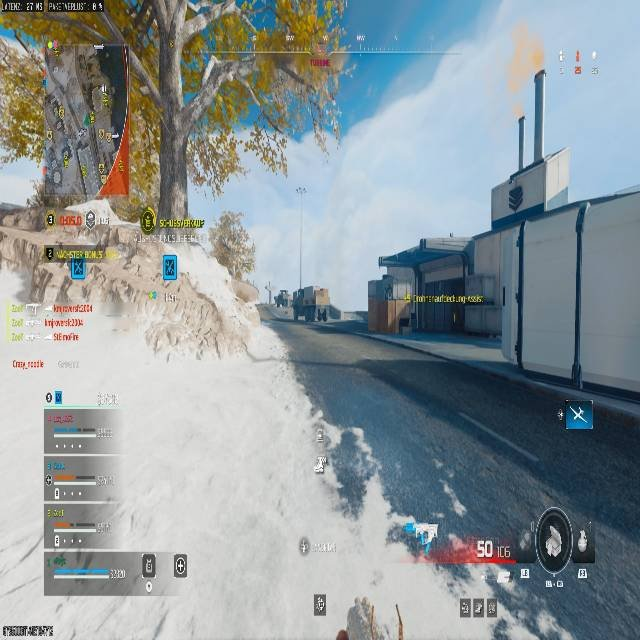player: (323, 426, 388, 518)
